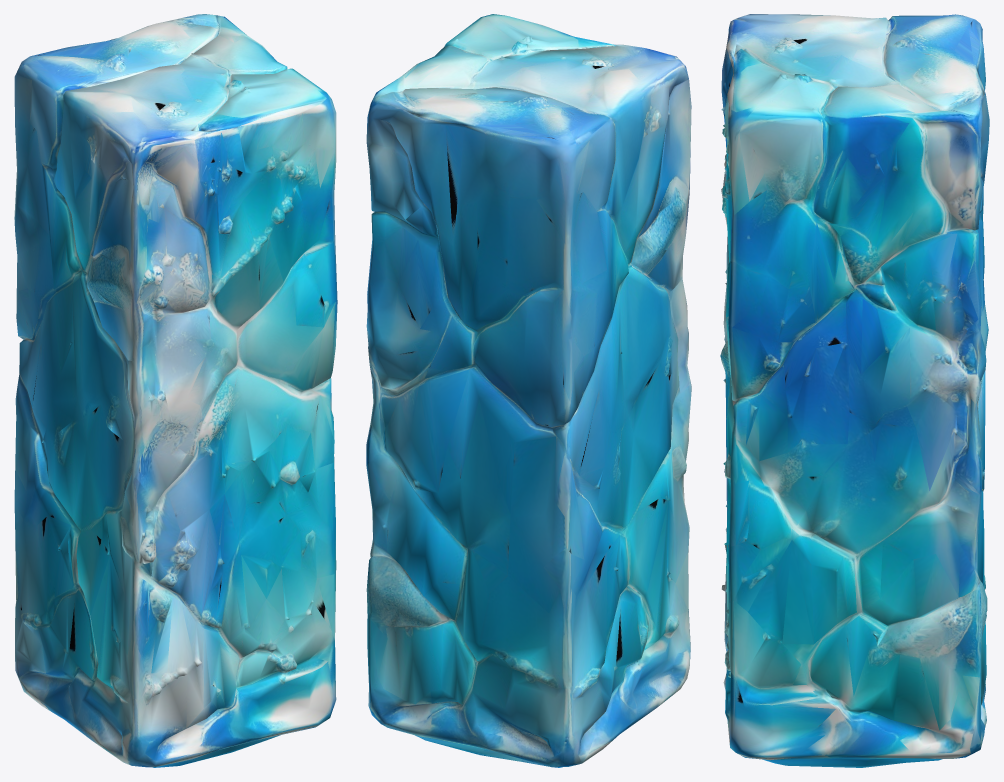
The model's file is buz_dikey_kup.glb.
3 renders of one model, left to right at view 1: azimuth 30°, elevation 25°; view 2: azimuth 150°, elevation 25°; view 3: azimuth 270°, elevation 25°, orthographic. The views are drawn at different scales.
Parts seen in each view (by area): view 1: tripo_node_c82e71e9-f273-487a-a92f-f8329459451b; view 2: tripo_node_c82e71e9-f273-487a-a92f-f8329459451b; view 3: tripo_node_c82e71e9-f273-487a-a92f-f8329459451b.
Part boxes in pixels (<box>): tripo_node_c82e71e9-f273-487a-a92f-f8329459451b: <box>14,14,337,767</box>; tripo_node_c82e71e9-f273-487a-a92f-f8329459451b: <box>366,14,691,767</box>; tripo_node_c82e71e9-f273-487a-a92f-f8329459451b: <box>720,14,989,767</box>.
Bounding box in the file's own units: 0.3406 × 0.9818 × 0.356.
1 material, 1 textured.
